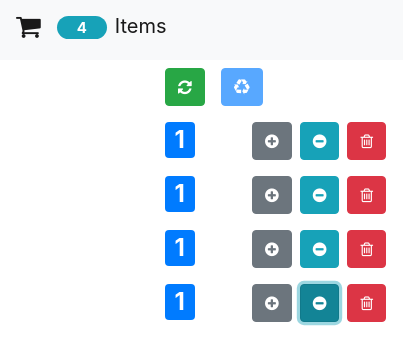
Test case: Test Counter App › Reset counter
Click the button with test id "resetCounter". click: (185, 87)
box: [165,68,205,106]
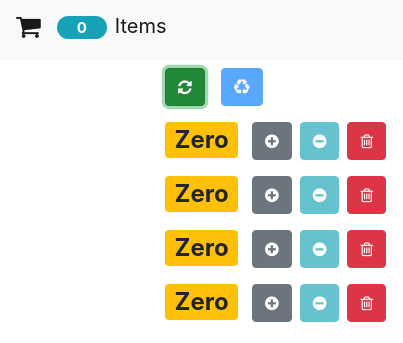
Expected: the text "0" is shown, [57,16,107,38]
Expected: the 1st text "Zero" is shown, [165,122,238,158]
Expected: the 2nd text "Zero" is shown, [165,176,238,212]
